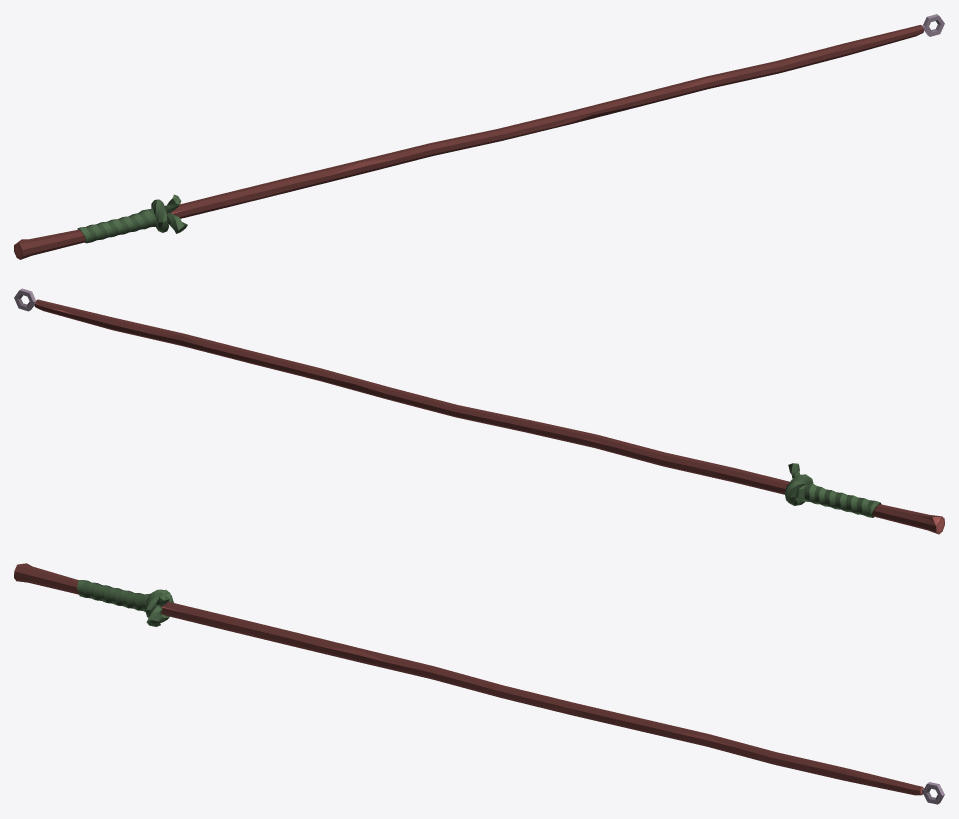
The model's file is Tool_FishingRod.fbx.
The picture shows the model from 3 angles, top to bottom: view 1: azimuth 30°, elevation 25°; view 2: azimuth 150°, elevation 25°; view 3: azimuth 330°, elevation 25°; orthographic projection.
Parts seen in each view (by area): view 1: Tool_FishingRod; view 2: Tool_FishingRod; view 3: Tool_FishingRod.
Boxes of the visible parts, x1=… form: Tool_FishingRod: x1=14, y1=14, x2=944, y2=259; Tool_FishingRod: x1=14, y1=288, x2=944, y2=534; Tool_FishingRod: x1=14, y1=563, x2=944, y2=804.
Bounding box in the file's own units: 13.47 × 0.5188 × 0.6157.
